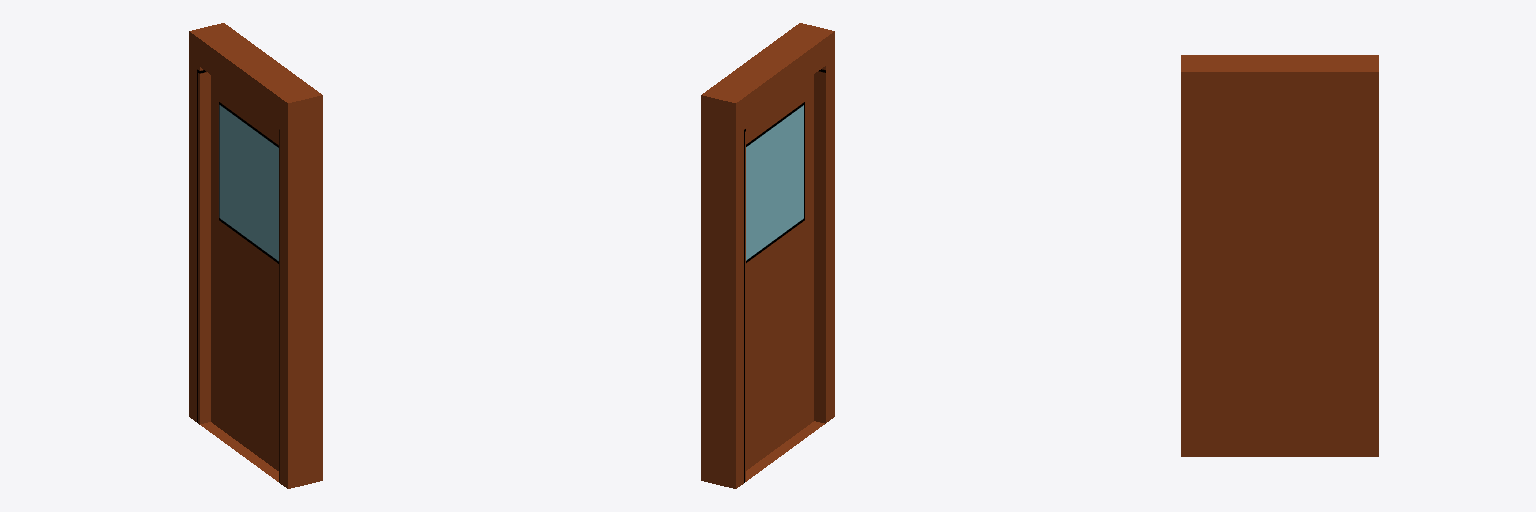
3 views of the same model, side by side, from view 1: azimuth 30°, elevation 25°; view 2: azimuth 150°, elevation 25°; view 3: azimuth 270°, elevation 25° (orthographic).
Visible parts, largest first — view 1: pCube22; view 2: pCube22; view 3: pCube22.
Part boxes in pixels (left/top/right/bottom): pCube22: left=189, top=23, right=322, bottom=488; pCube22: left=701, top=23, right=834, bottom=488; pCube22: left=1181, top=55, right=1378, bottom=456.
Size of the model in its own units: 0.1912 by 2.02 by 0.9405.
1 materials, 1 textured.